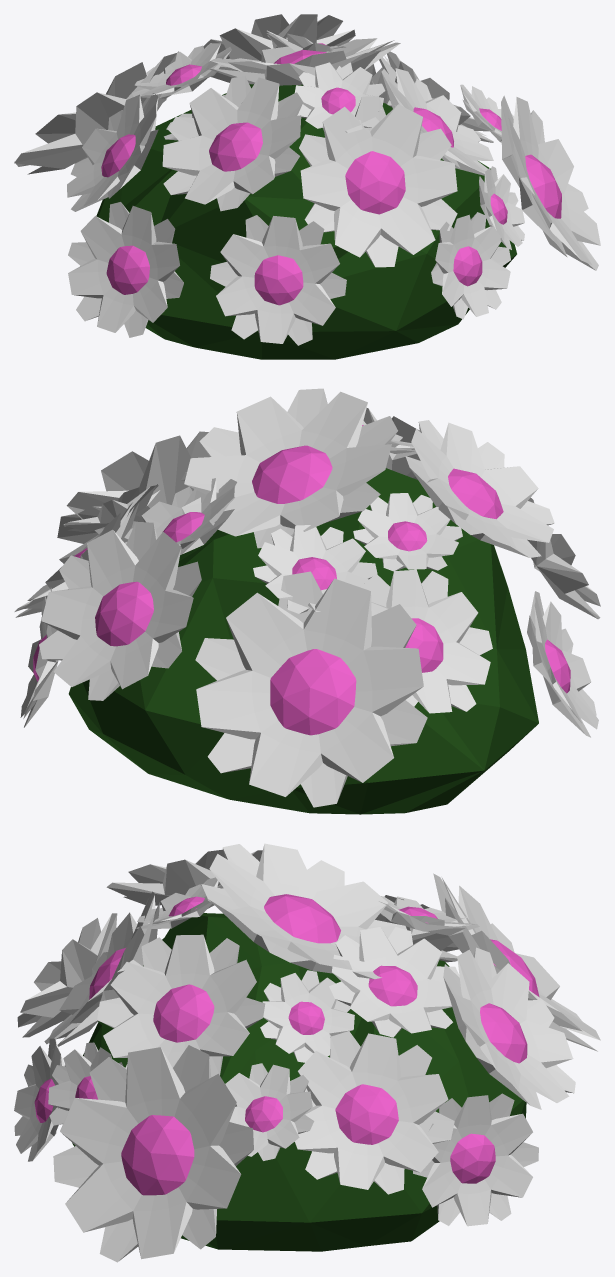
The model's file is Flower_Asternbush.fbx.
3 views of the same model, one above another, from view 1: azimuth 30°, elevation 25°; view 2: azimuth 150°, elevation 25°; view 3: azimuth 270°, elevation 25° (orthographic). The views are drawn at different scales.
Parts seen in each view (by area): view 1: Sphere; view 2: Sphere; view 3: Sphere.
Boxes of the visible parts, bbox=[...] form: Sphere: bbox=[14, 14, 600, 359]; Sphere: bbox=[14, 388, 600, 814]; Sphere: bbox=[14, 843, 600, 1262].
Size of the model in its own units: 81.83 by 43.4 by 75.07.
